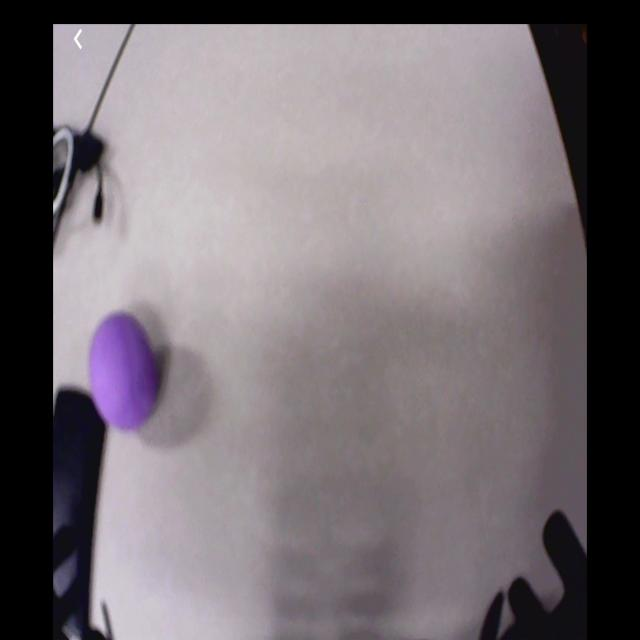ball: (88, 314, 159, 434)
